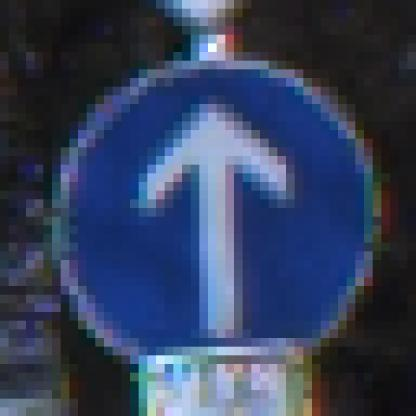AheadOnly: (44, 53, 374, 374)
